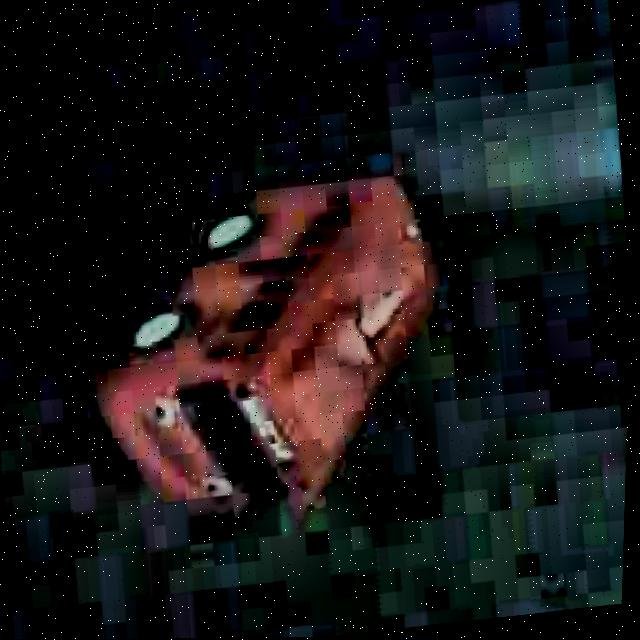bus: (48, 134, 479, 548)
